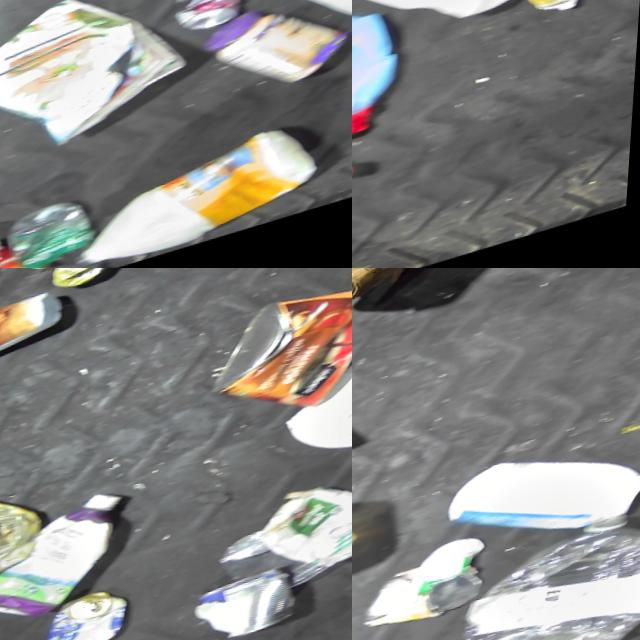can: (202, 275, 352, 441), (358, 538, 499, 640), (200, 564, 315, 640), (165, 0, 253, 50), (41, 268, 154, 304), (524, 0, 617, 35)
milk_jug: (352, 0, 586, 69), (293, 0, 352, 46)
non_white_jug: (0, 489, 149, 637), (352, 2, 419, 167)
plastic_bottle: (10, 195, 120, 268)
